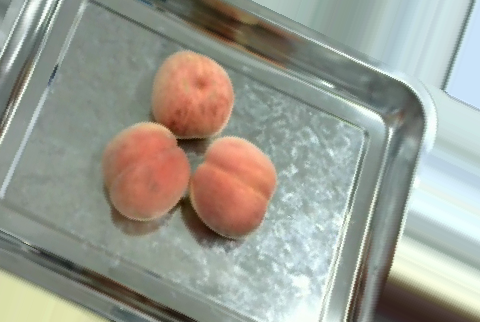Peach: (189, 135, 278, 239), (101, 120, 190, 222), (149, 49, 237, 138)
